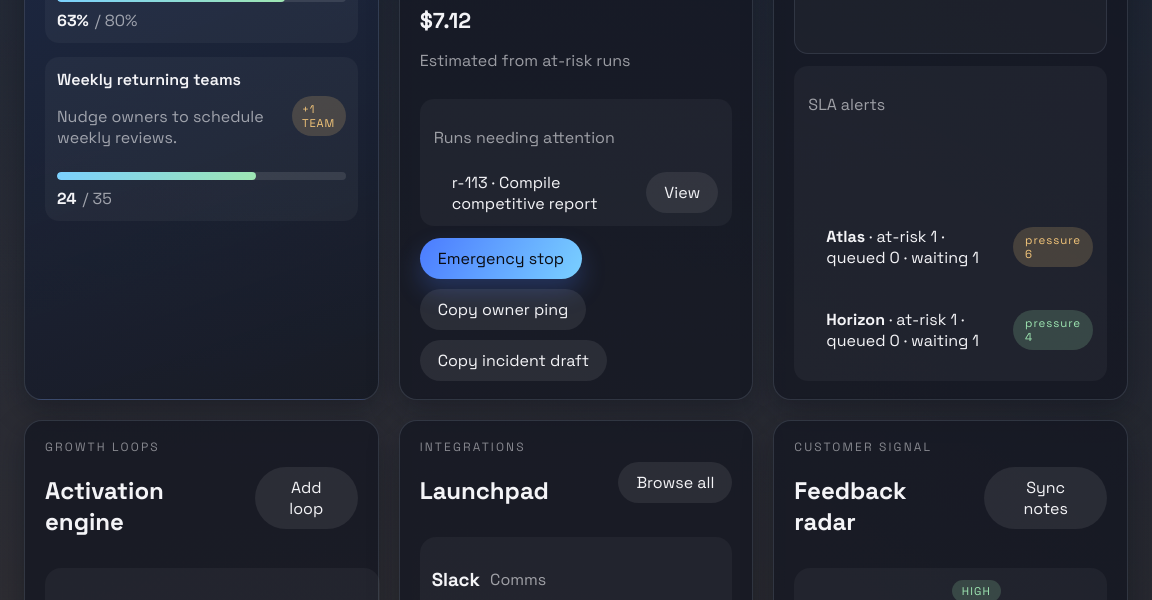
Scenario: copies escalation drafts from the run health summary card
(page scrolled)
Click the button "Copy incident draft": (513, 360) left=420, top=340, right=607, bottom=381
(page scrolled)
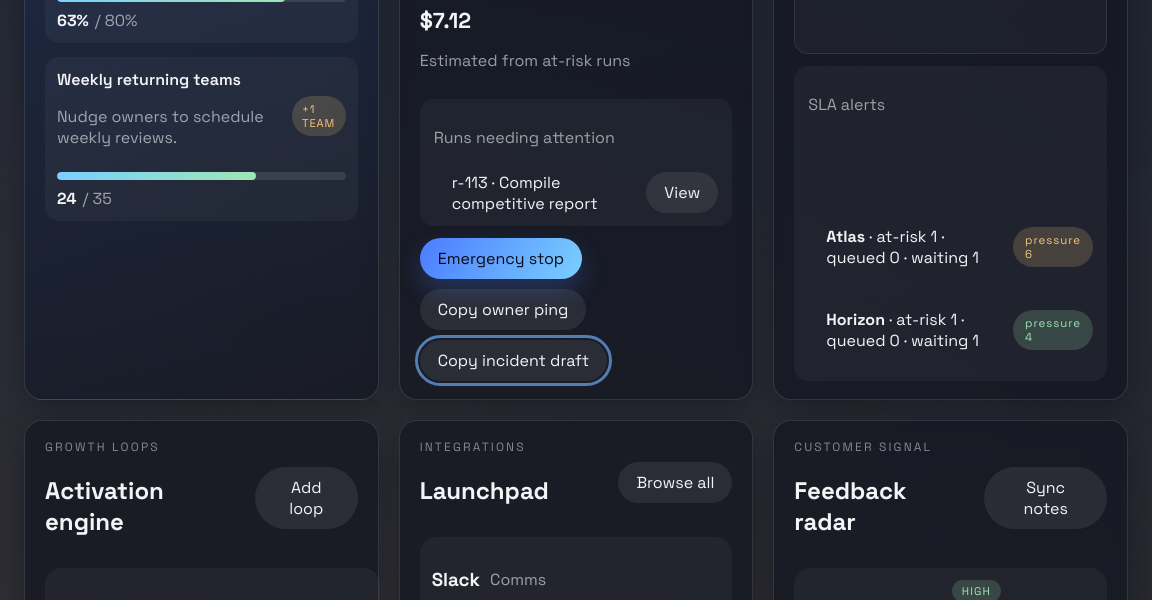
Click the button "Copy owner ping": (503, 309) left=420, top=289, right=586, bottom=330
(page scrolled)
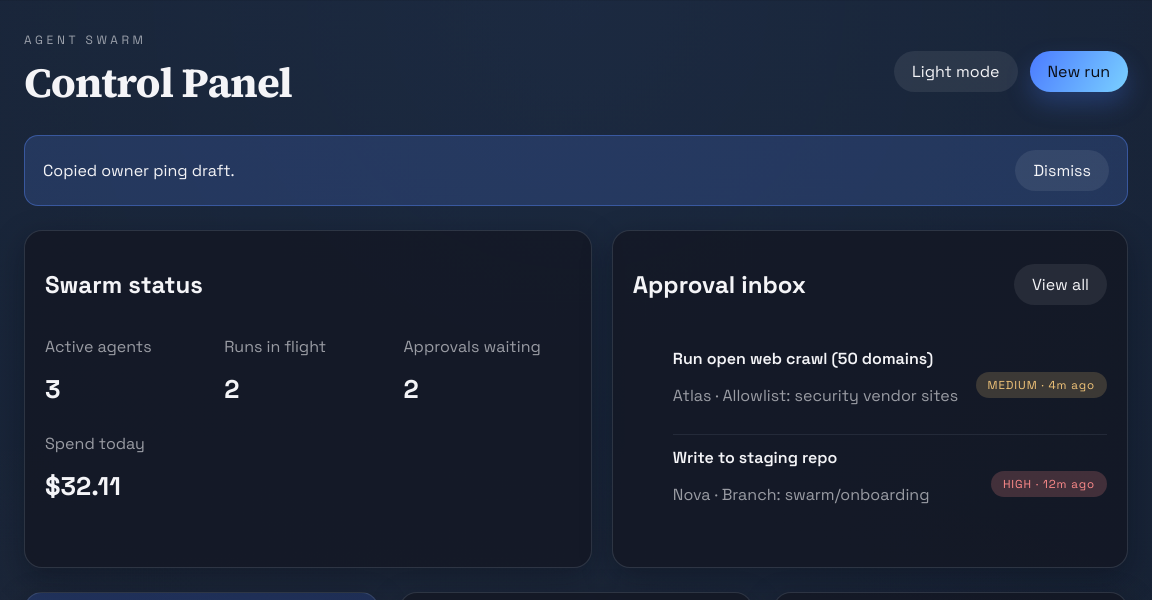
Now the message shows "Copied owner ping", box left=43, top=160, right=235, bottom=181
